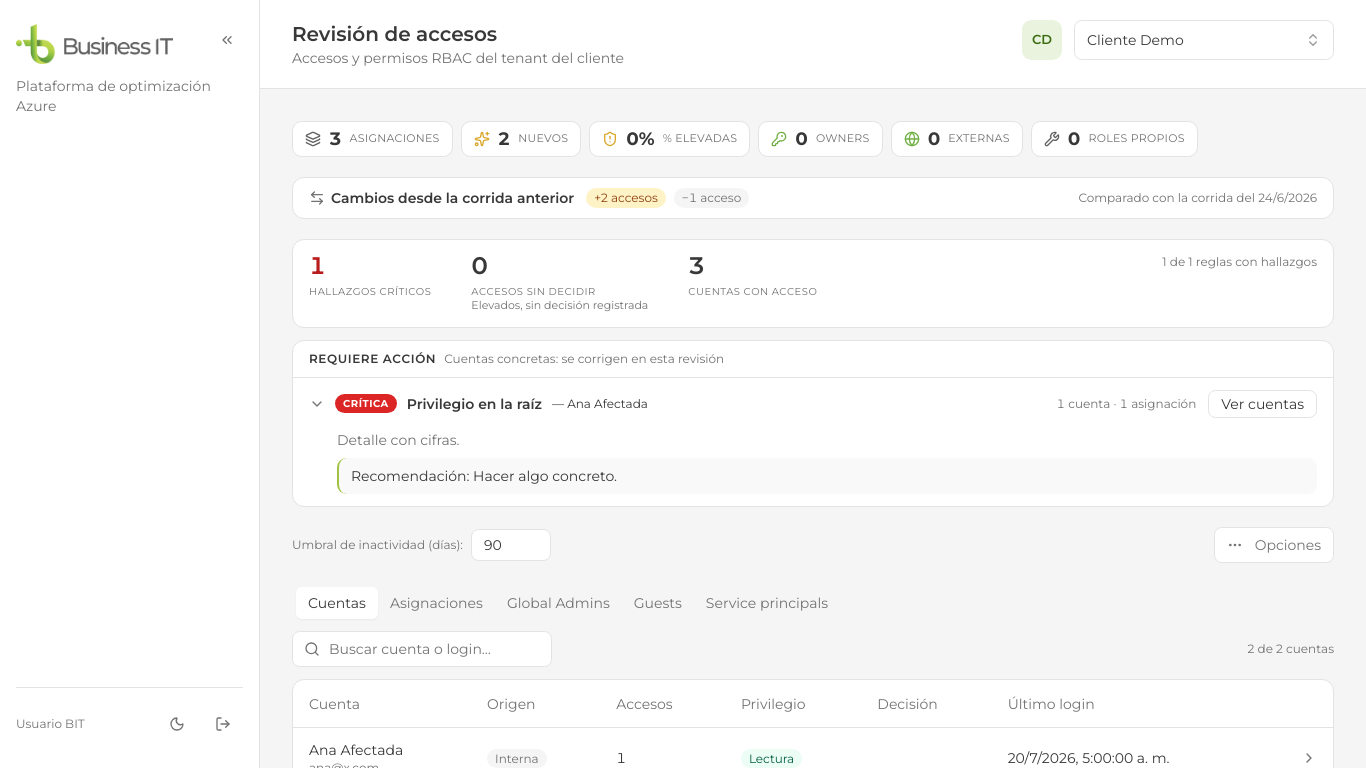
'Ver cuentas' filtra la tabla por las cuentas del hallazgo, y el chip lo quita
// El drill-down pasa por el modal: ahí se ven las cuentas, y de ahí se salta a la tabla filtrada.
Click the button "Ver cuentas". click: (1263, 404)
box: [1208,390,1317,418]
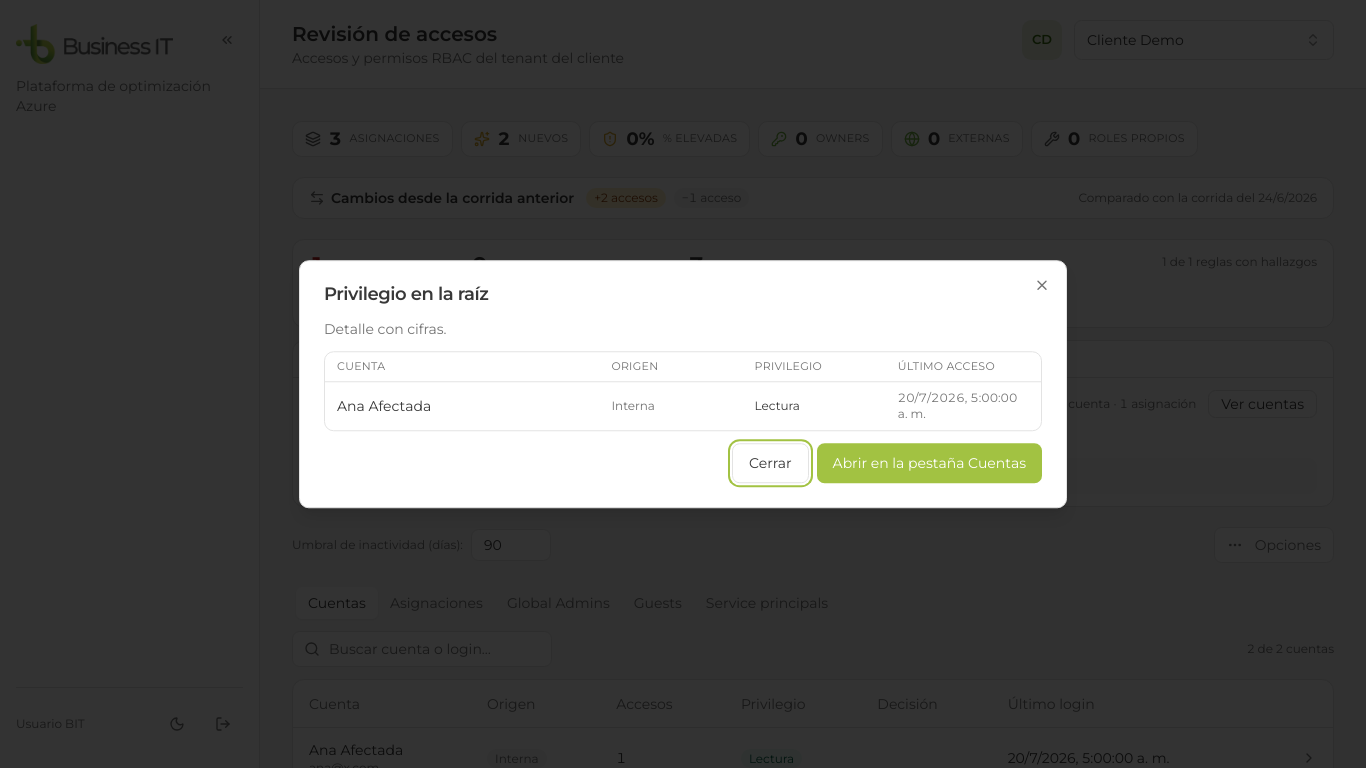
Click the button "Abrir en la pestaña Cuentas". click: (929, 463)
box: [817,443,1042,483]
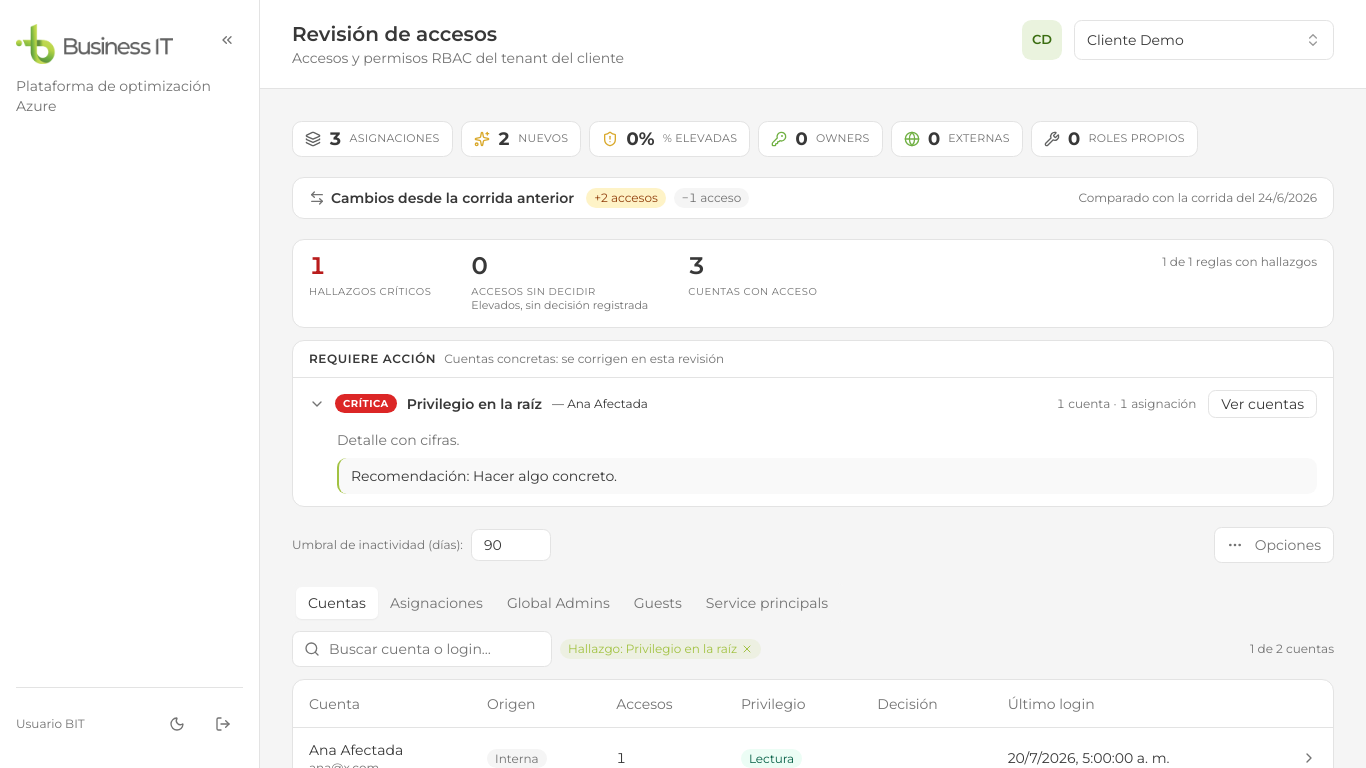
Expected: the text "Ana Afectada" is shown, [309,740,403,760]
Click the button with aria-label "Quitar filtro del hallazgo". click: (661, 649)
box: [560,639,761,659]
(page scrolled)
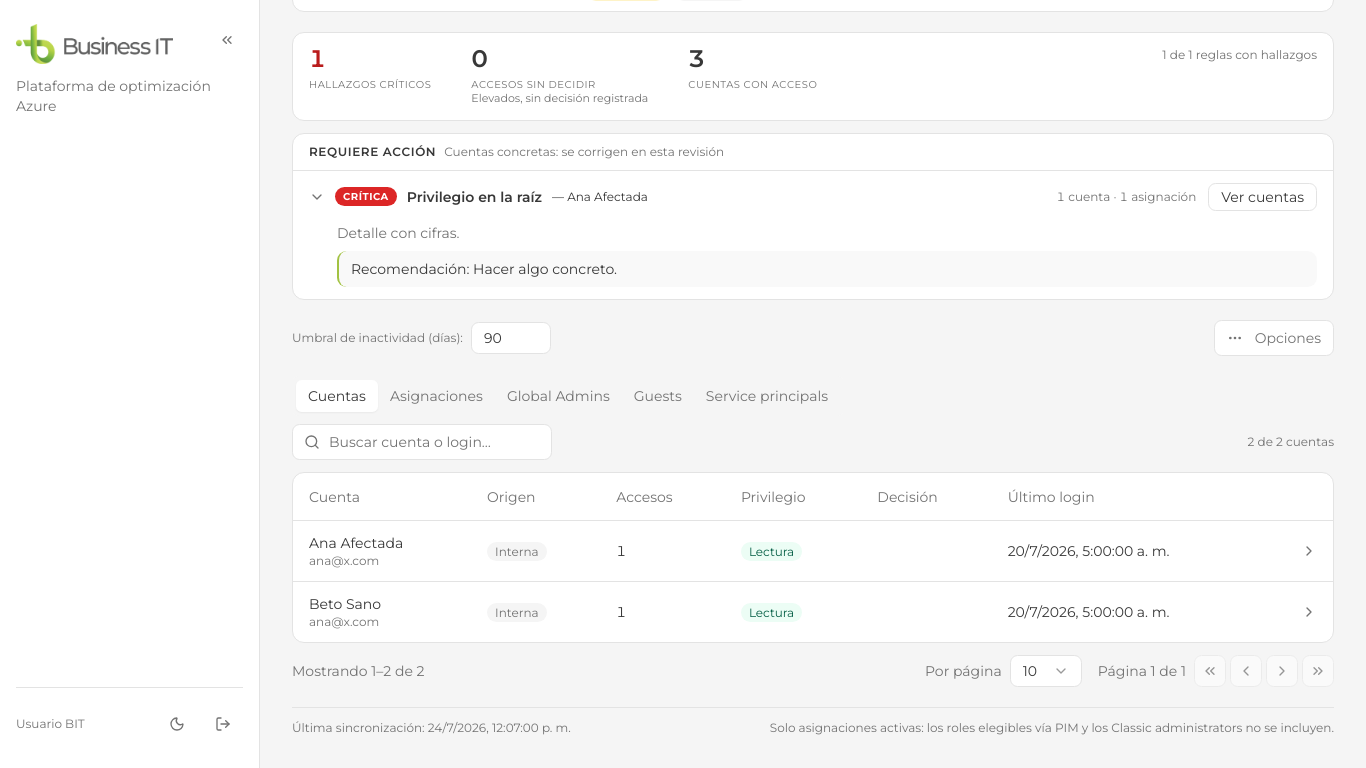
Expected: the text "Beto Sano" is shown, [309,594,381,614]
